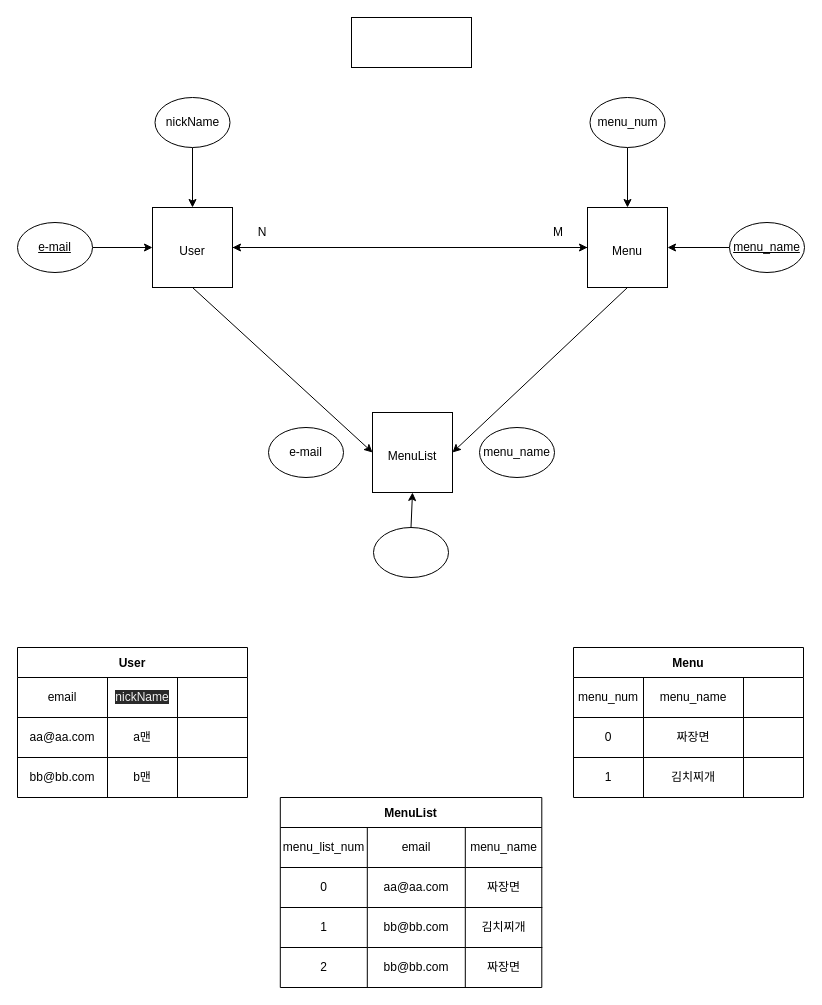
Some shapes in this 822 by 1005 pixel diagram are drawn without their labels. Here are the shapes that lost their labels. From the top down, the centre of each, then its label:
At (411,42): "ERD".
At (410,552): "menulist_id".
